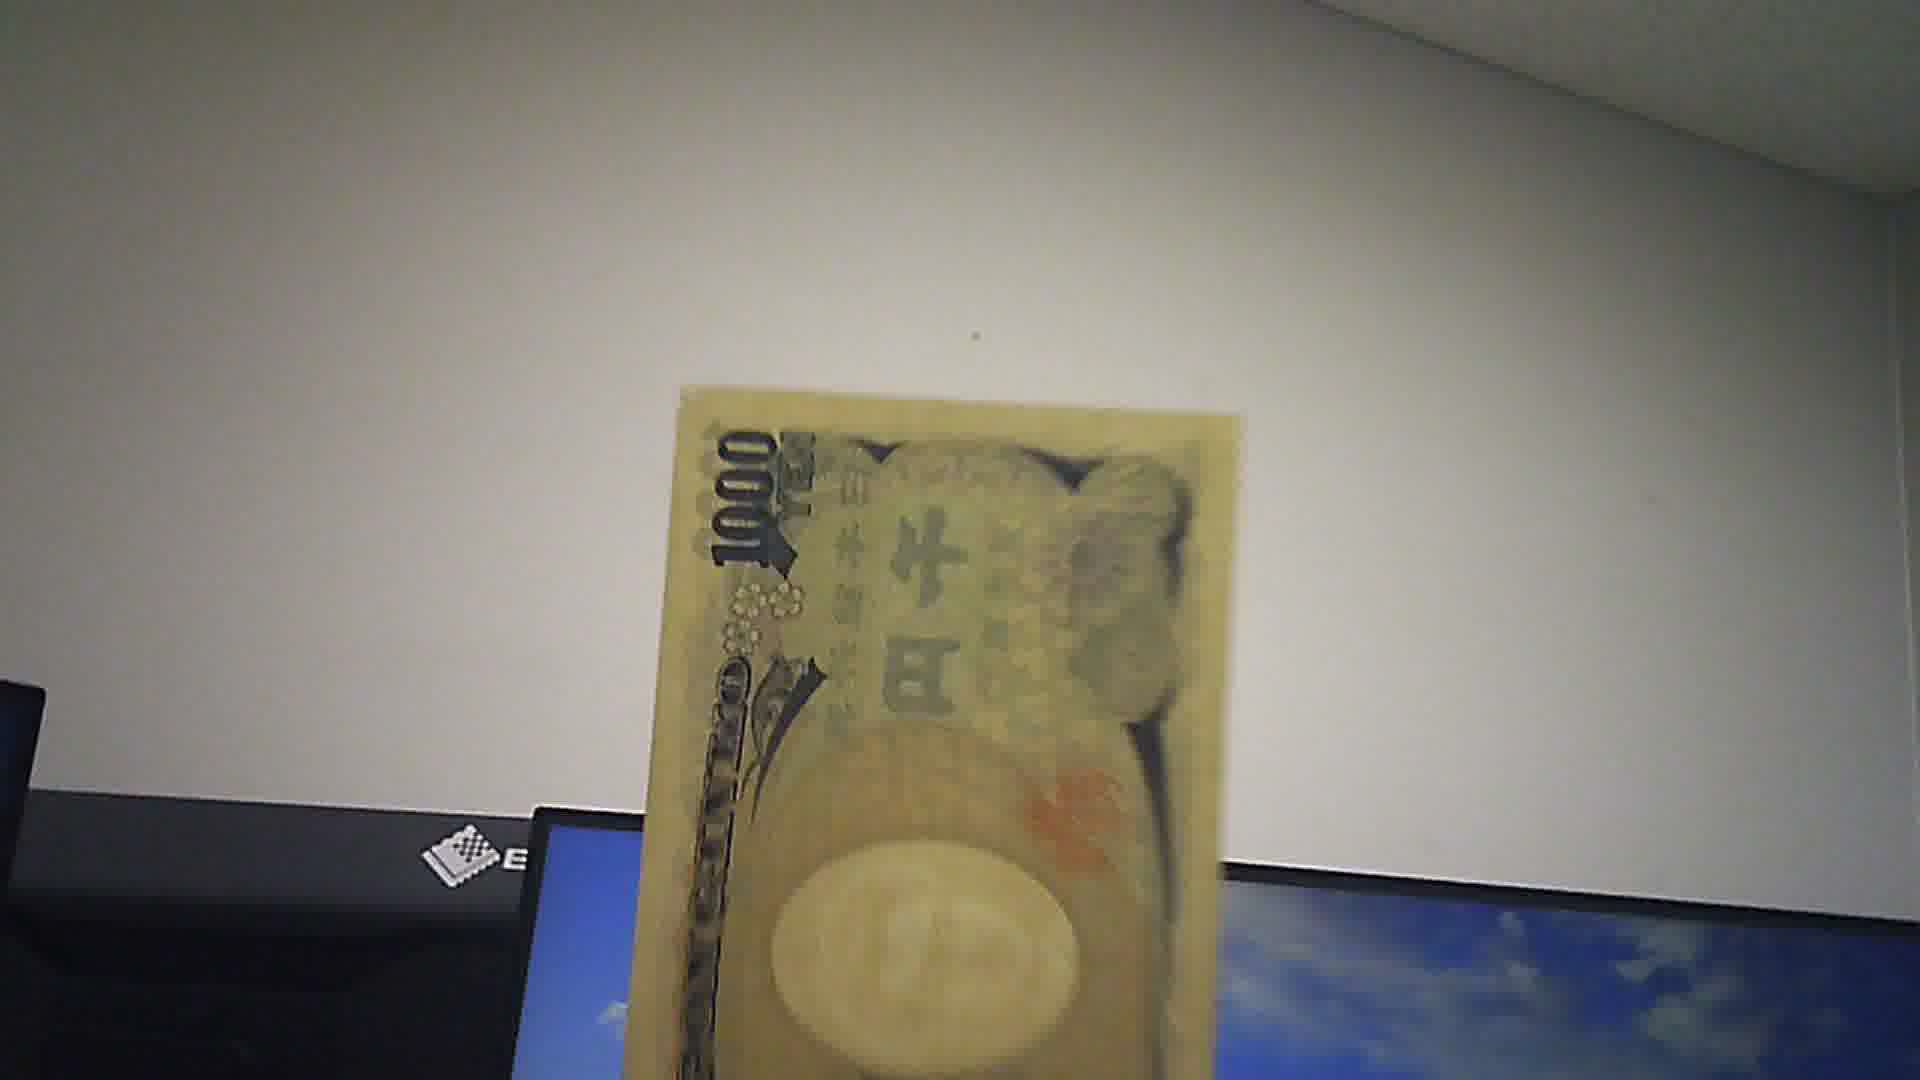1,000 Yen: (640, 369, 1250, 1073)
